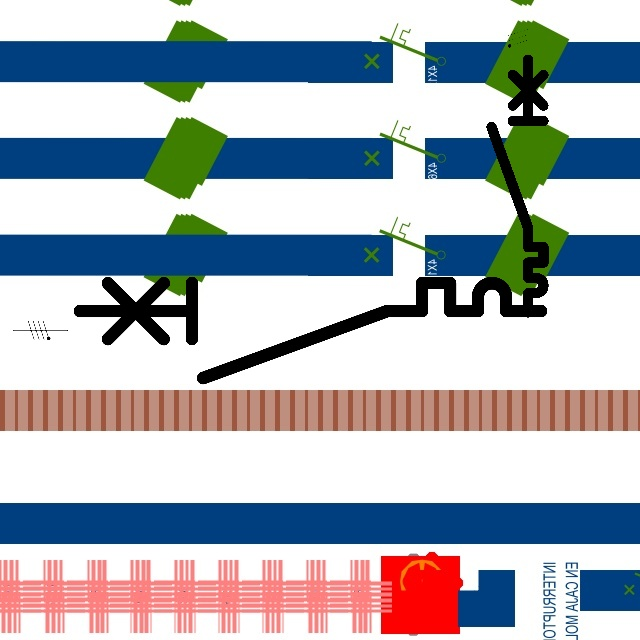interruptor_termomagnetico: (67, 271, 552, 389), (485, 53, 550, 319)
